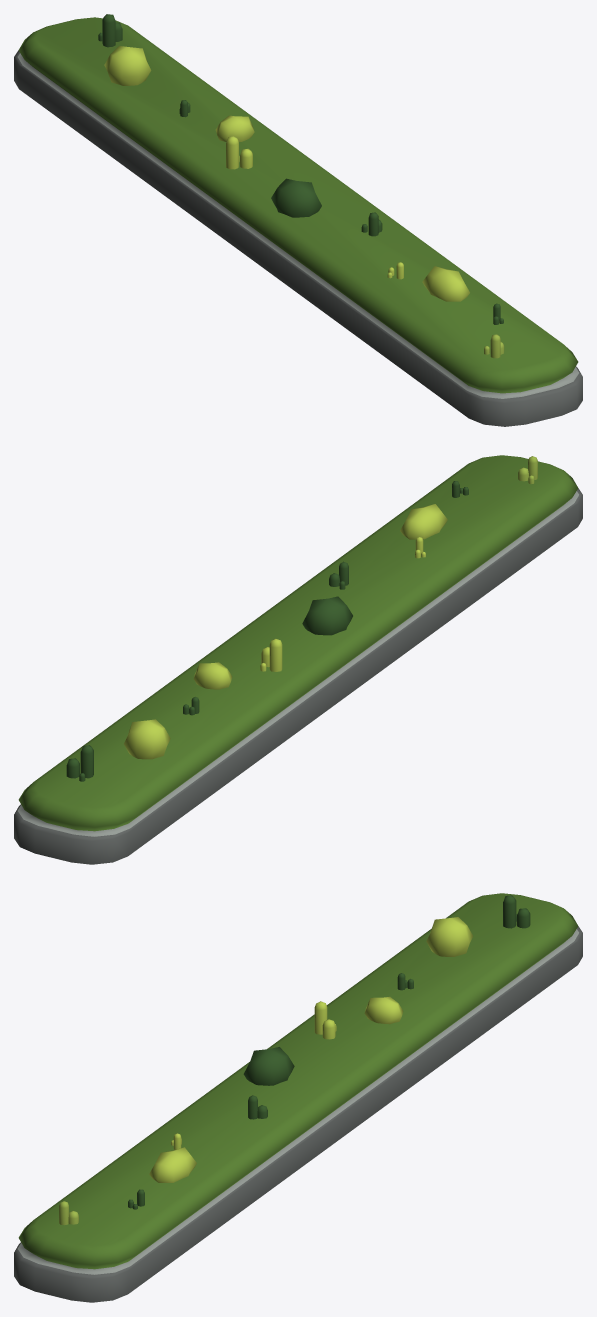
Rendered from BushPatch_02.glb.
The picture shows the model from 3 angles, top to bottom: view 1: azimuth 30°, elevation 25°; view 2: azimuth 150°, elevation 25°; view 3: azimuth 330°, elevation 25°; orthographic projection.
Visible parts, largest first — view 1: BushPatch_02; view 2: BushPatch_02; view 3: BushPatch_02.
Boxes of the visible parts, box(x1,y1,x2,y2) form: BushPatch_02: box(14, 14, 582, 426); BushPatch_02: box(14, 455, 582, 864); BushPatch_02: box(14, 893, 582, 1302).
Size of what is drawn, in the model's own units: 0.5978 by 0.4006 by 4.56.
Materials: 1 (1 with a texture image).
